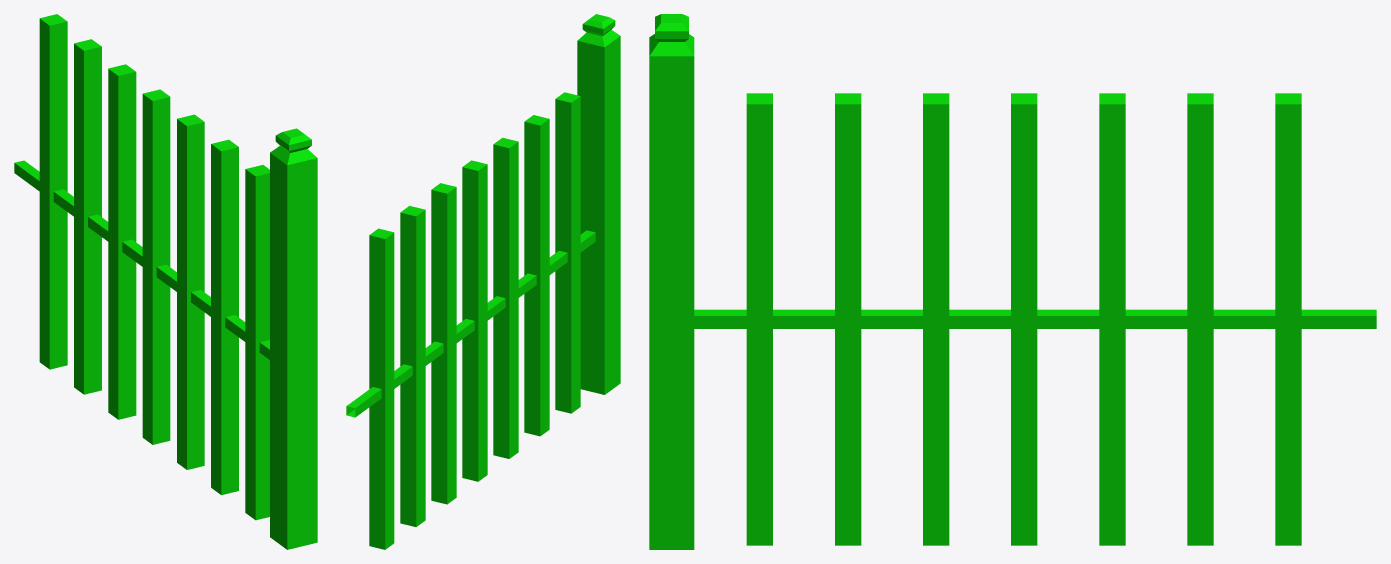
File: Fence.fbx
The picture shows the model from 3 angles, left to right: view 1: azimuth 30°, elevation 25°; view 2: azimuth 150°, elevation 25°; view 3: azimuth 270°, elevation 25°; orthographic projection. The views are drawn at different scales.
Visible parts, largest first — view 1: Fence; view 2: Fence; view 3: Fence.
Boxes of the visible parts, left/top/right/bottom form: Fence: left=14, top=14, right=317, bottom=549; Fence: left=346, top=14, right=620, bottom=549; Fence: left=649, top=14, right=1376, bottom=549.
Bounding box in the file's own units: 21.22 × 273 × 344.
